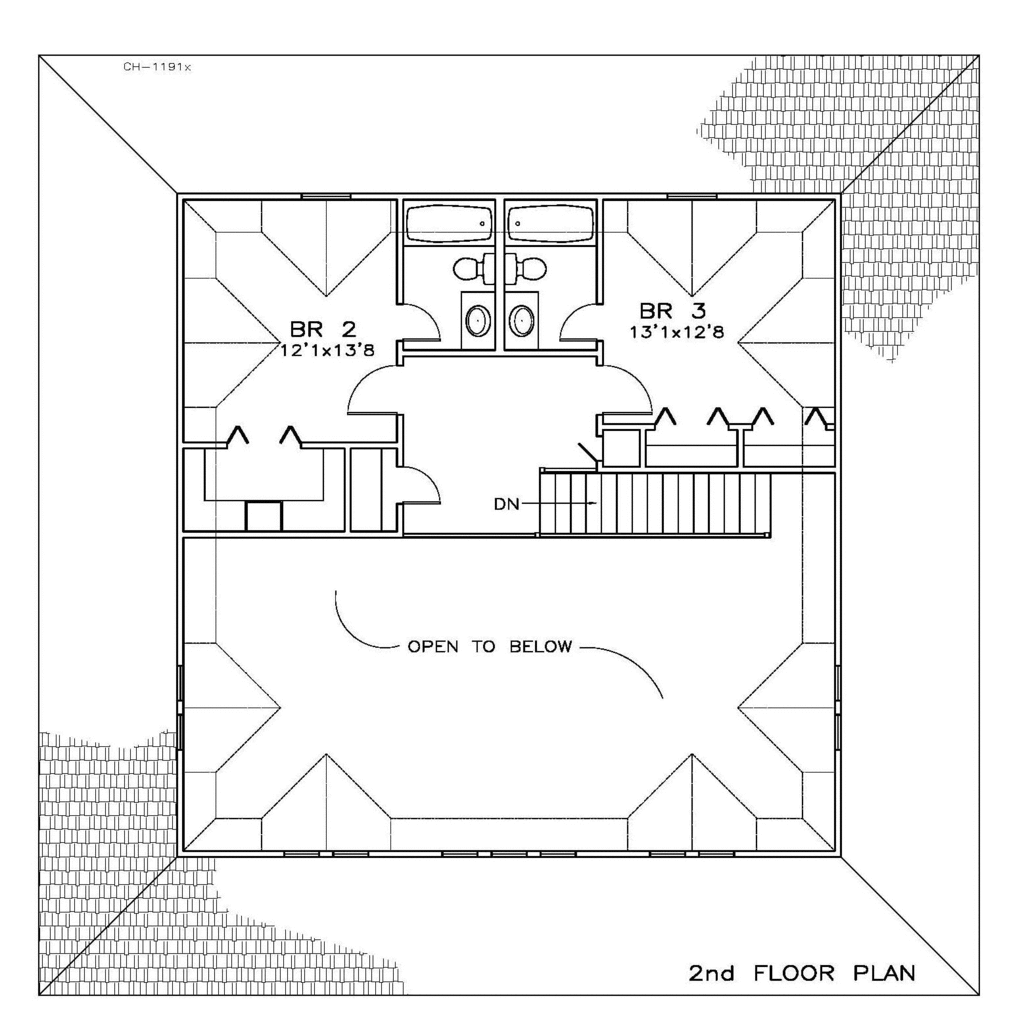door: (342, 364, 413, 414), (601, 366, 658, 412), (393, 466, 443, 508), (395, 303, 442, 345), (555, 306, 608, 343)
large_sink: (447, 249, 497, 295), (505, 251, 558, 287)
small_sink: (506, 295, 548, 351), (463, 298, 495, 349)
stairs: (522, 466, 772, 535)
tub: (398, 204, 497, 251), (508, 201, 590, 243)
window: (442, 848, 579, 862), (280, 848, 368, 861), (174, 666, 185, 759), (832, 664, 842, 746), (650, 853, 743, 861)
